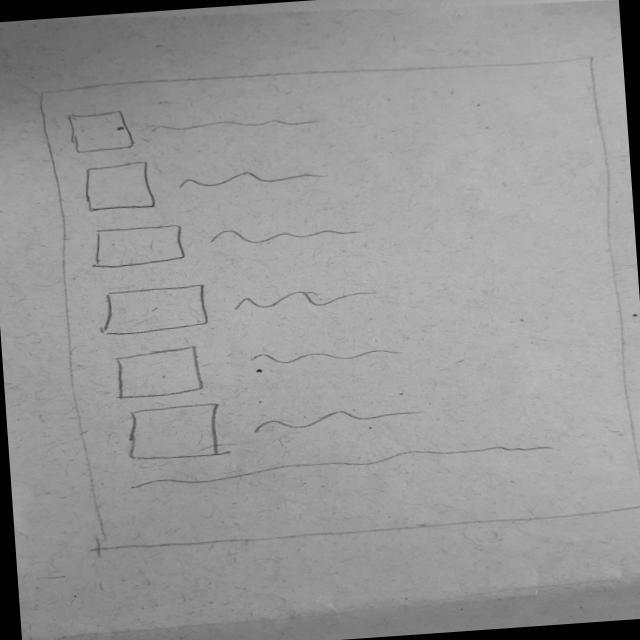checkbox: (104, 328, 412, 404), (120, 389, 418, 464), (98, 265, 383, 339), (89, 206, 364, 277), (75, 148, 335, 220), (66, 92, 325, 161)
container: (32, 46, 640, 557)
text: (121, 441, 563, 493)
